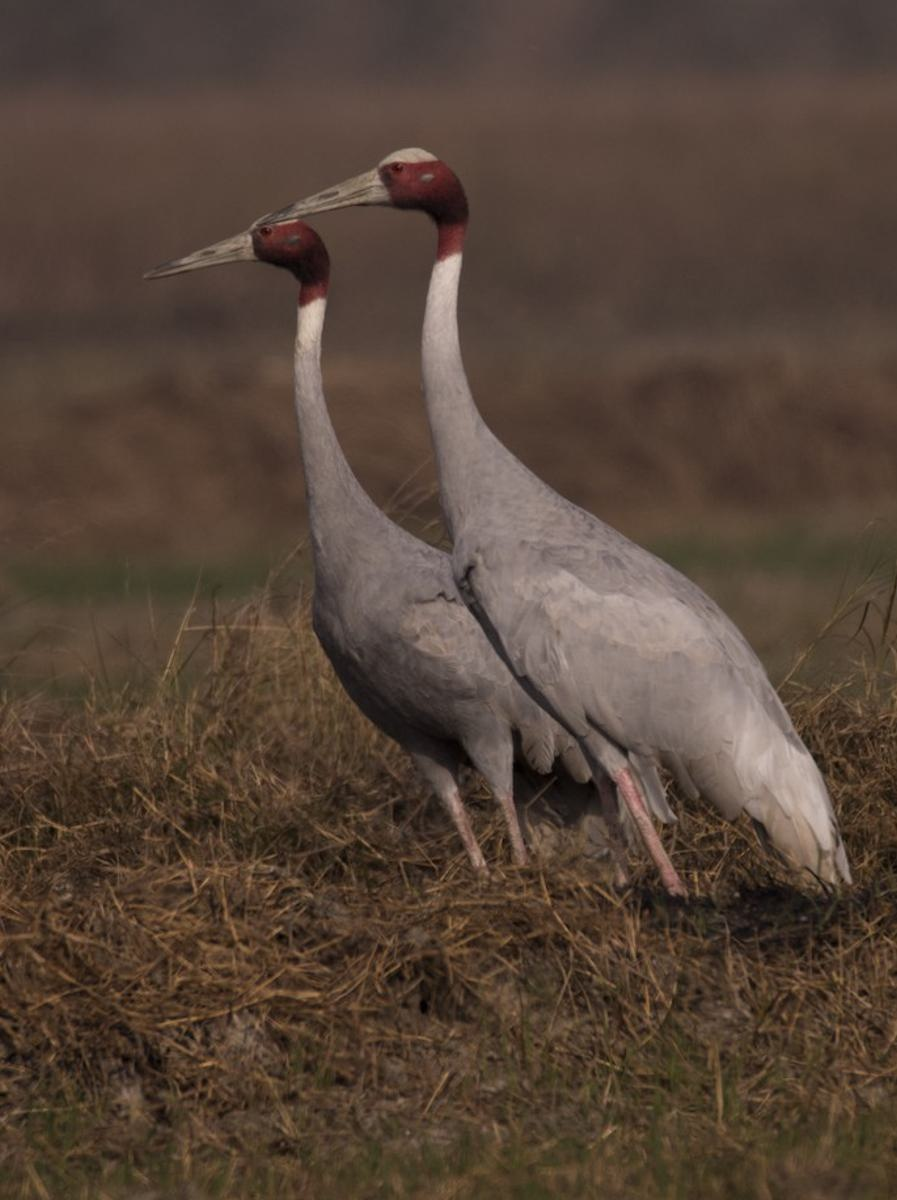crane: (263, 117, 867, 939), (132, 176, 426, 870)
